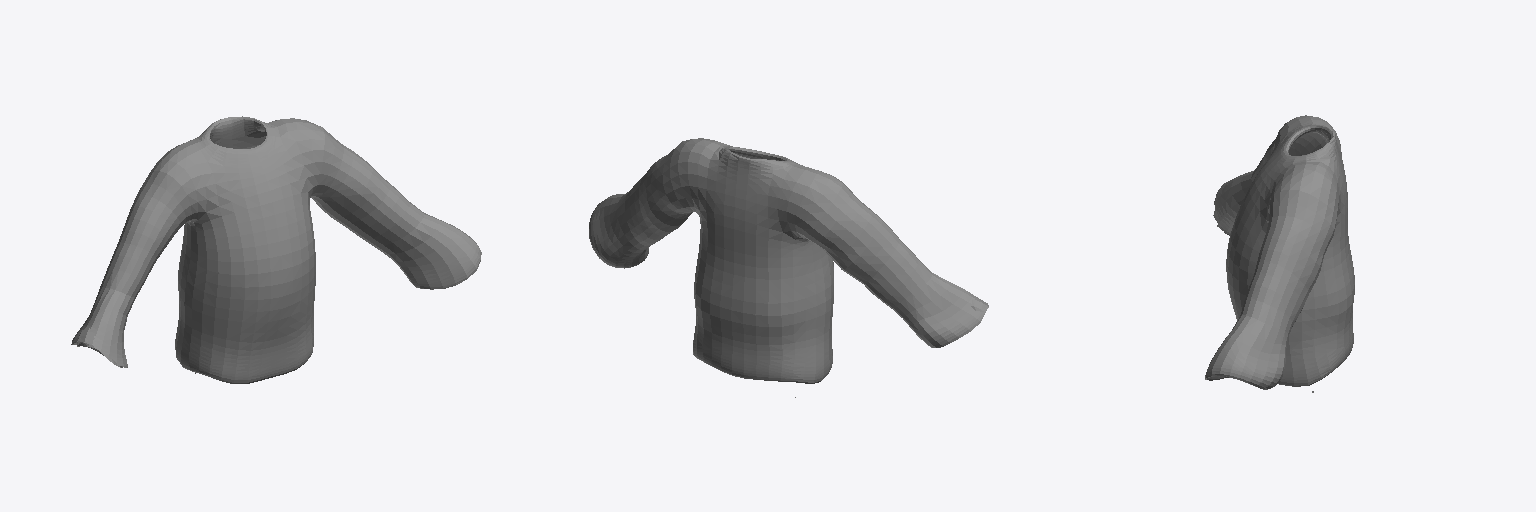
Rendered from pecho.obj.
The picture shows the model from 3 angles: view 1: azimuth 30°, elevation 25°; view 2: azimuth 150°, elevation 25°; view 3: azimuth 270°, elevation 25°; orthographic projection.
Visible parts, largest first — view 1: char2; view 2: char2; view 3: char2.
Part boxes in pixels (bbox=[...]): char2: bbox=[71, 116, 481, 383]; char2: bbox=[589, 138, 988, 397]; char2: bbox=[1205, 115, 1354, 392].
Size of the model in its own units: 6.26 by 3.6 by 2.05.